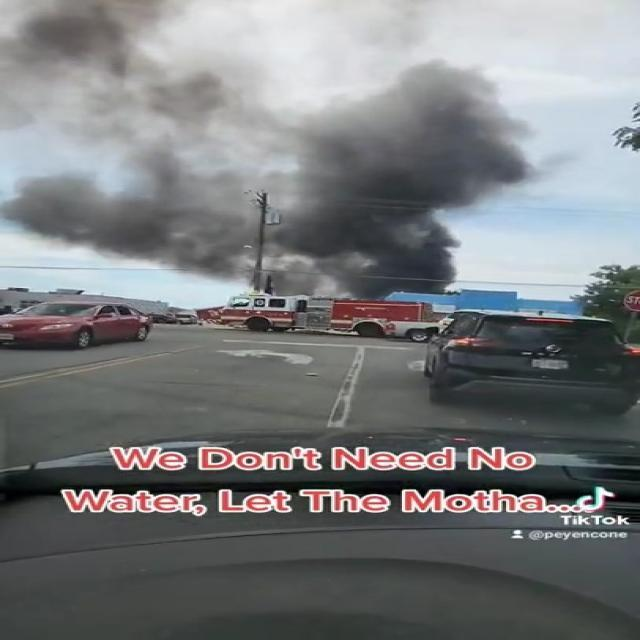Smoke: (277, 76, 525, 312)
